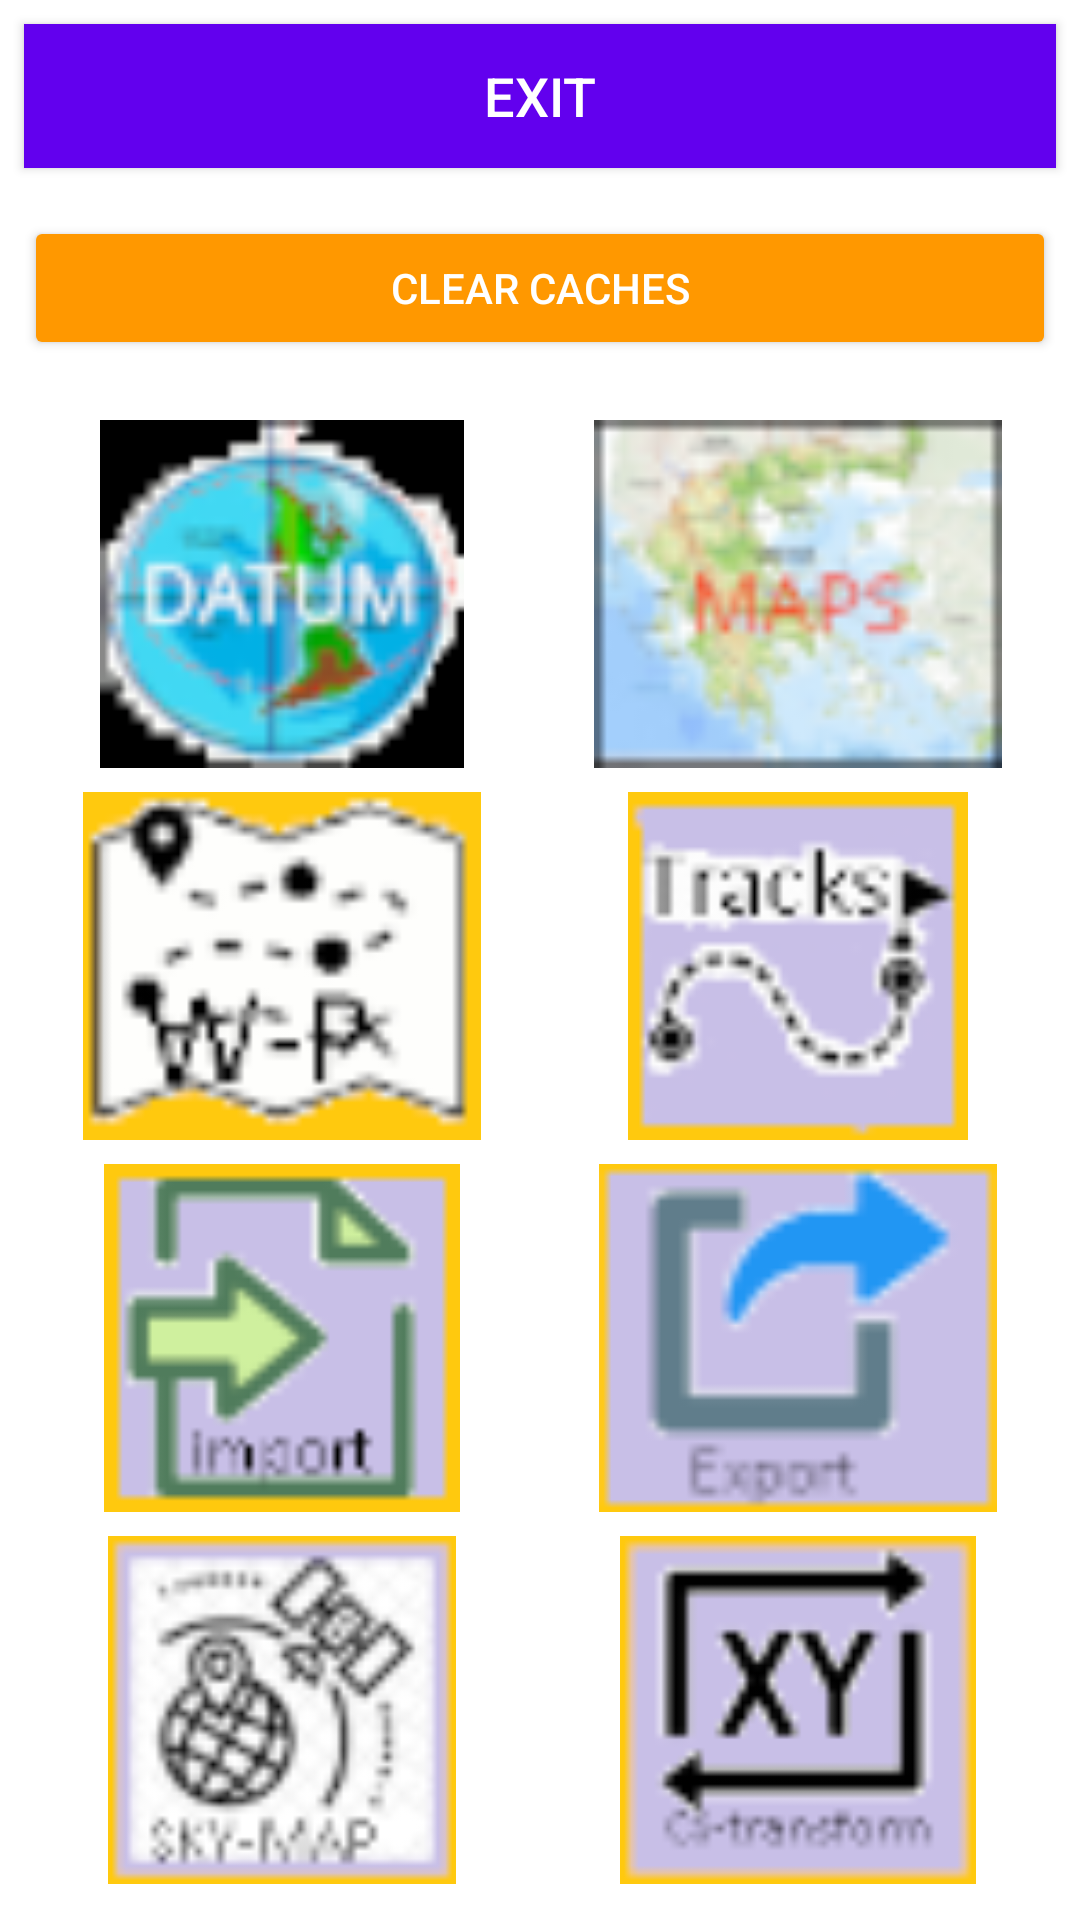

Screen size 1080×1920. Icon name, then its center in pixels as point (x, y):
Satellites: point (282, 1710)
Translate: point (798, 1710)
